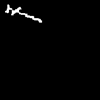double_crochet: (5, 5, 41, 21)
